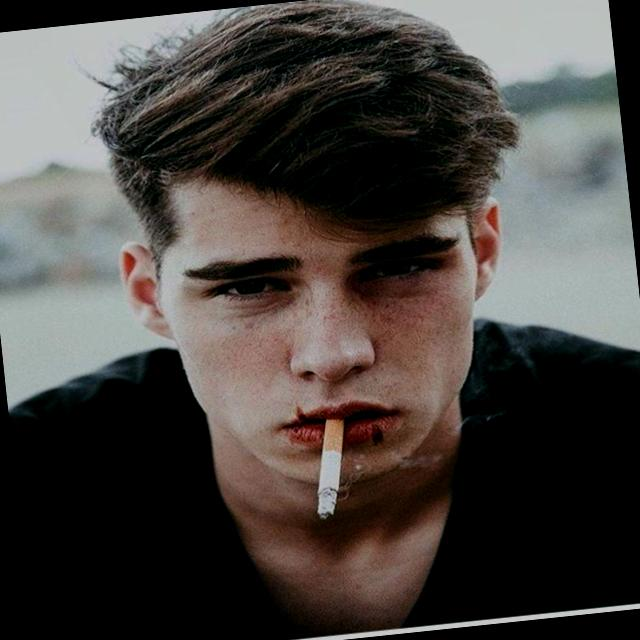cigarette: (292, 390, 379, 530)
